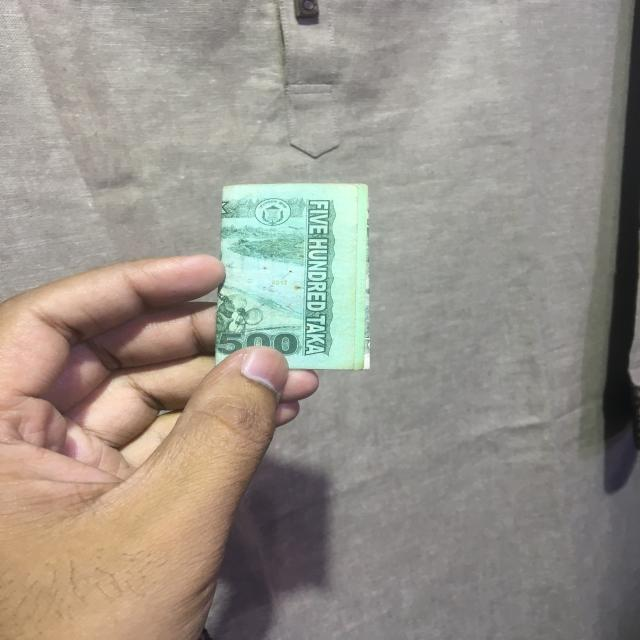Taka: (219, 186, 370, 372)
